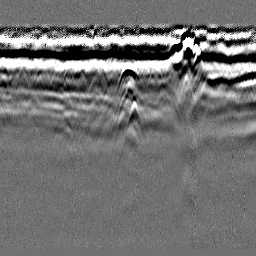cavity: (117, 57, 138, 91)
